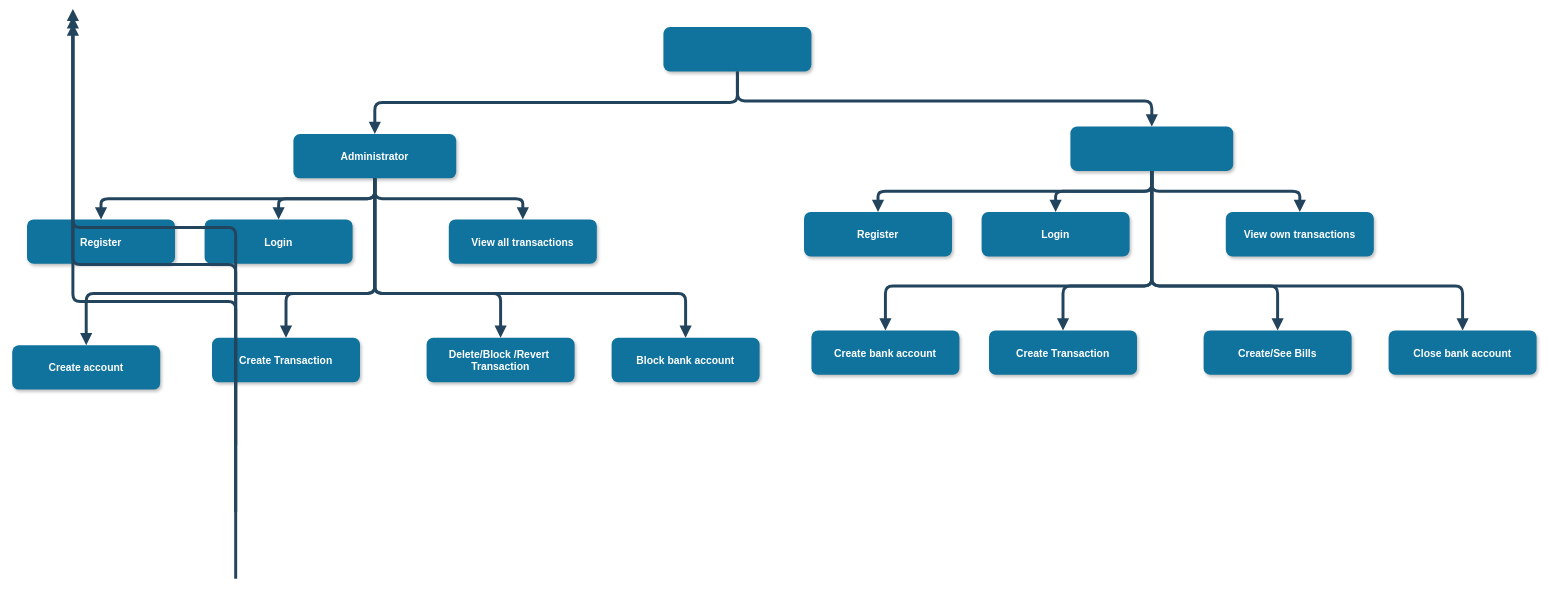
Image size: 1549x591. Some labels were removed from this diagram. The centre of each missing label's shape, as x and y in pixels:
"Client" belongs at (1152,149).
"Sharp Bank Website" belongs at (737,50).
